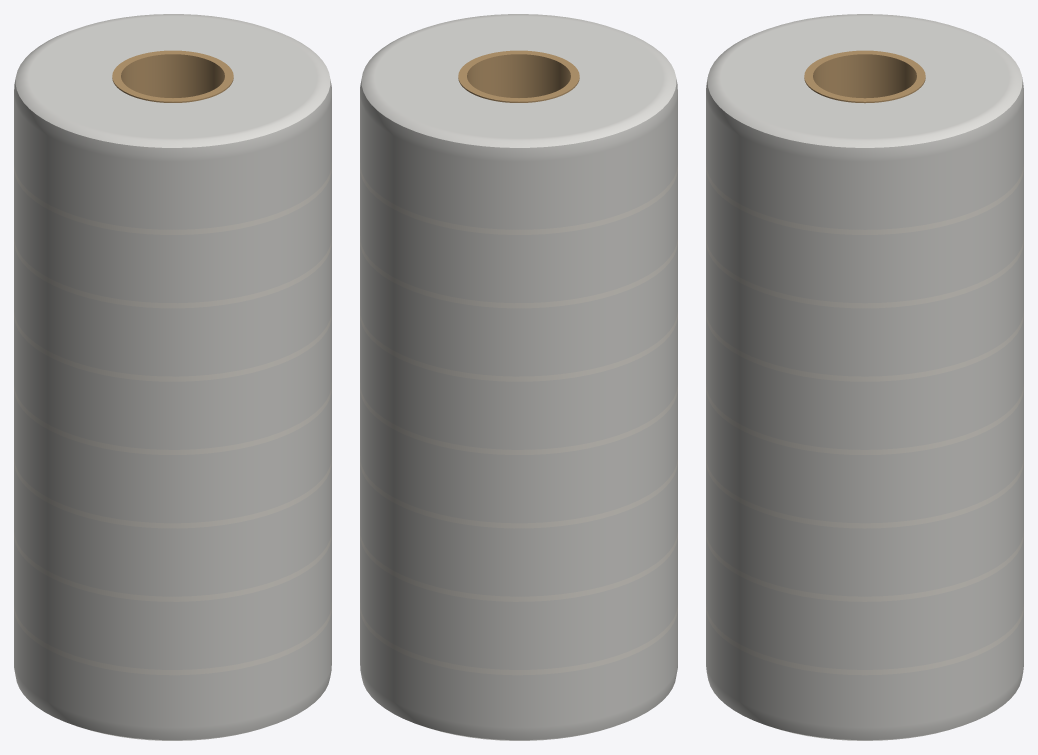
The model's file is item-kitchen-towel.glb.
The picture shows the model from 3 angles, left to right: view 1: azimuth 30°, elevation 25°; view 2: azimuth 150°, elevation 25°; view 3: azimuth 270°, elevation 25°; orthographic projection.
Parts seen in each view (by area): view 1: item-kitchen-towel; view 2: item-kitchen-towel; view 3: item-kitchen-towel.
Boxes of the visible parts, left/top/right/bottom form: item-kitchen-towel: left=14, top=14, right=331, bottom=740; item-kitchen-towel: left=360, top=14, right=677, bottom=740; item-kitchen-towel: left=706, top=14, right=1023, bottom=740.
Bounding box in the file's own units: 0.11 × 0.23 × 0.11.
